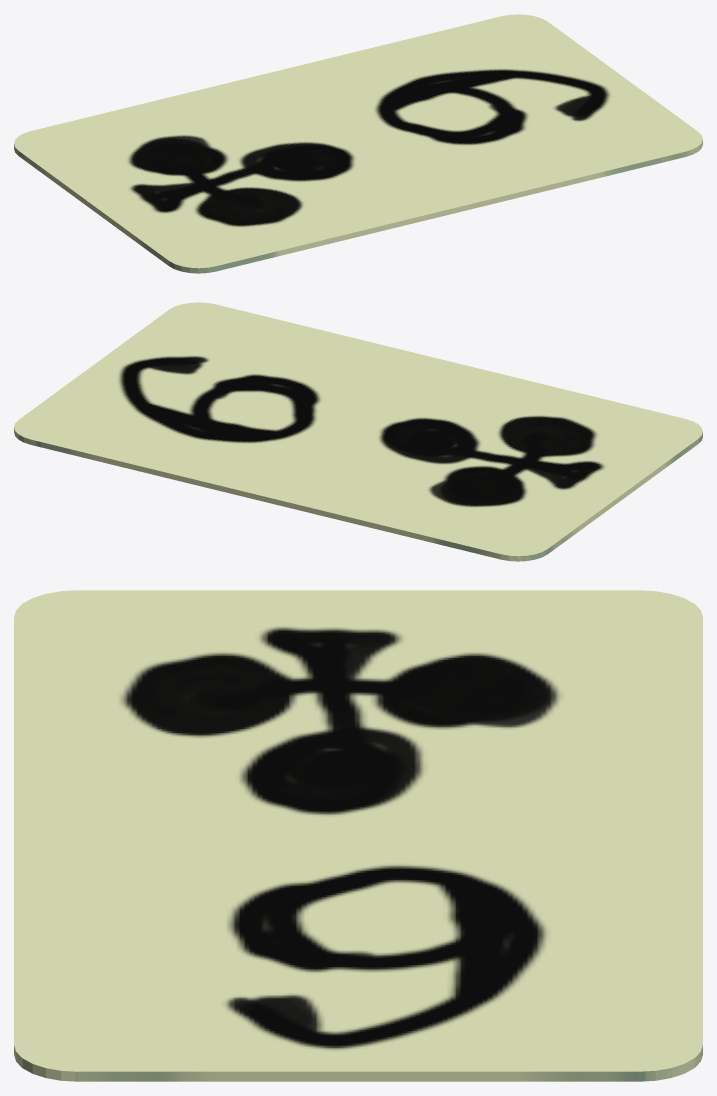
3 views of the same model, one above another, from view 1: azimuth 30°, elevation 25°; view 2: azimuth 150°, elevation 25°; view 3: azimuth 270°, elevation 25° (orthographic). The views are drawn at different scales.
Parts seen in each view (by area): view 1: Card; view 2: Card; view 3: Card.
Part boxes in pixels (x1,y1,x2,y2): Card: (14, 14, 702, 273); Card: (14, 302, 702, 561); Card: (14, 590, 702, 1081).
Bounding box in the file's own units: 0.6456 × 0.3904 × 0.00625.
Materials: 1 (1 with a texture image).
